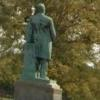Statue: (18, 3, 61, 84)
